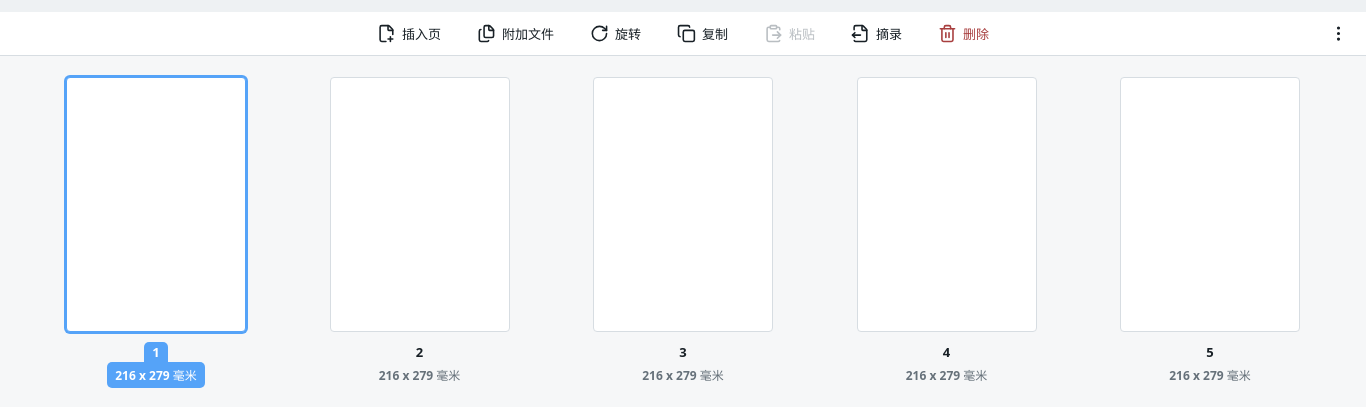
Test: PageOrganizerWorkspace 多选 / 撤销 / 风险 › 清除选择按钮清空所有已选
What coordinates should you click on to do the following:
click the button with aria-label "第 2 页"
I would click on:
 (420, 232)
Its box is [330,76,510,389].
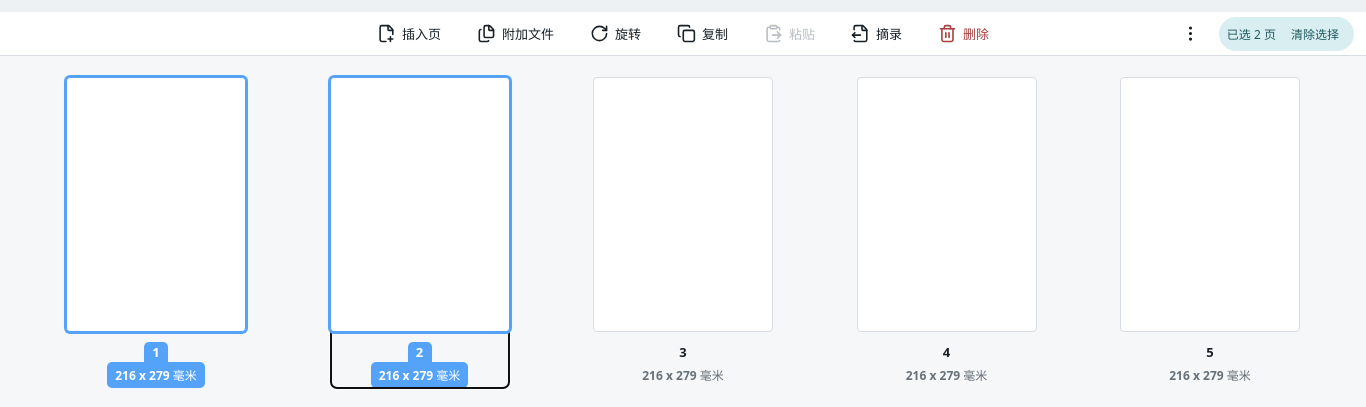
What coordinates should you click on to do the following:
click the button "清除选择"
I would click on:
 (1315, 34)
Its box is [1284,18,1346,48].
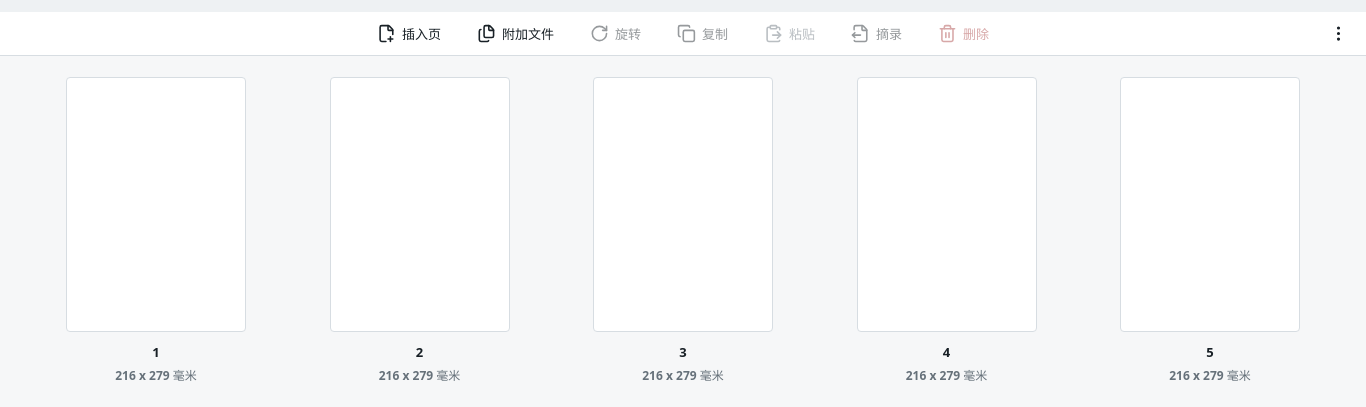
Now the text "已选 2 页" is gone
Now the button "删除" is disabled, box [934,14,993,54]
